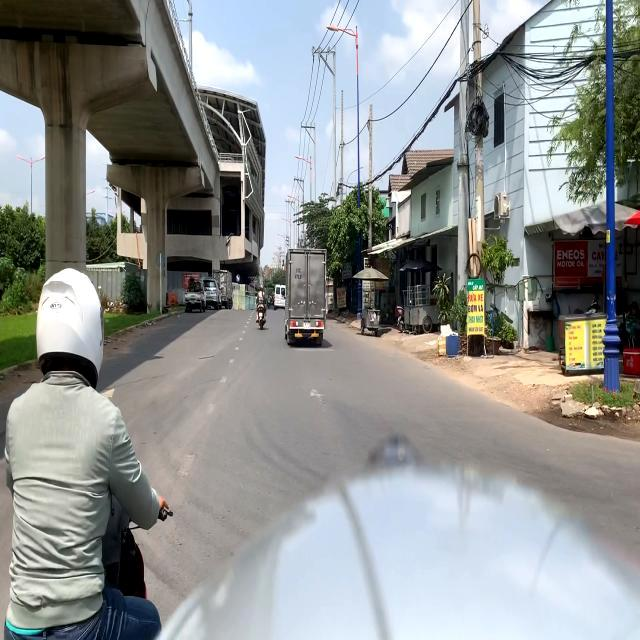Vong chuong ngai vat sang phai: (236, 274, 240, 282)
